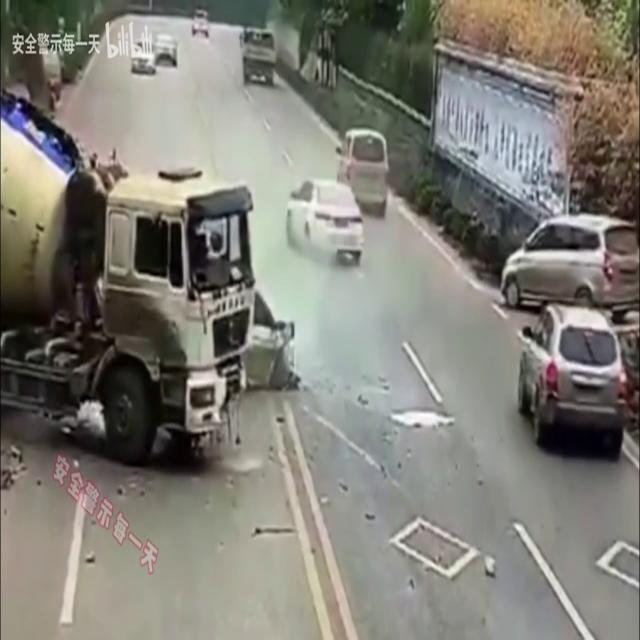accident: (2, 83, 306, 493)
non-accident: (500, 208, 640, 464), (286, 125, 392, 272), (132, 34, 178, 76)
